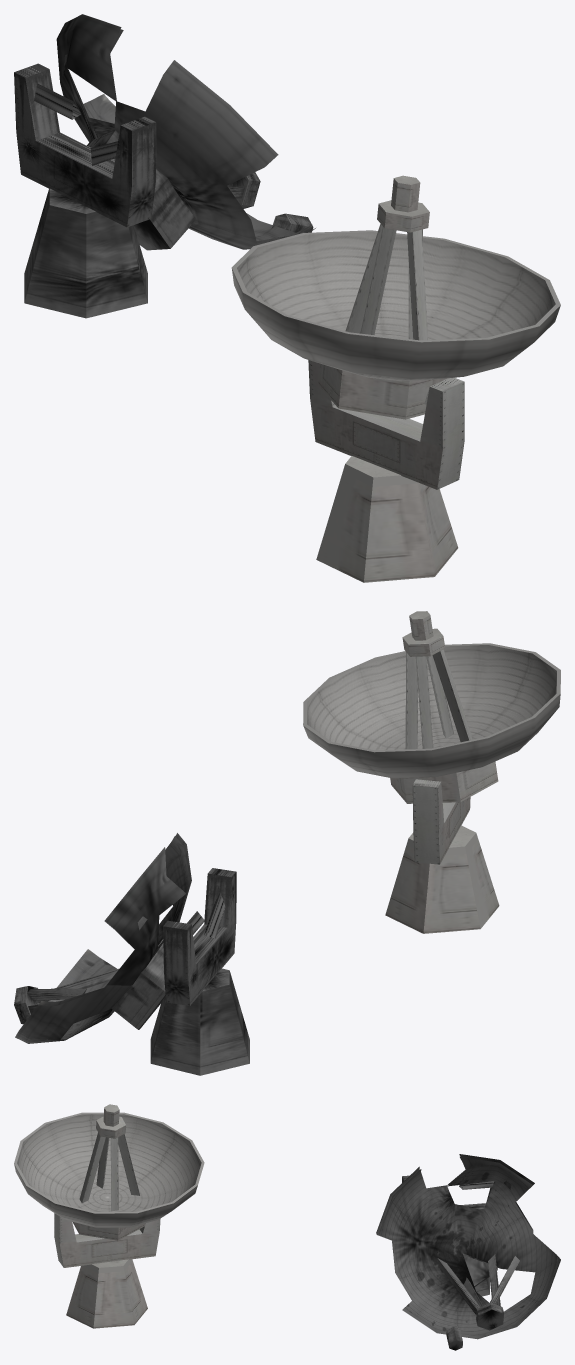
File: ComDish.fbx
The picture shows the model from 3 angles, top to bottom: view 1: azimuth 30°, elevation 25°; view 2: azimuth 150°, elevation 25°; view 3: azimuth 270°, elevation 25°; orthographic projection. The views are drawn at different scales.
Parts seen in each view (by area): view 1: DishDEAD, Dish, DishBASE, ARM; view 2: Dish, DishDEAD, DishBASE, ARM; view 3: DishDEAD, Dish, DishBASE, ARM.
Part boxes in pixels (<box>): DishDEAD: <box>14,14,315,318</box>; Dish: <box>231,175,560,419</box>; DishBASE: <box>316,456,458,582</box>; ARM: <box>308,360,464,489</box>; Dish: <box>303,611,560,803</box>; DishDEAD: <box>14,833,249,1075</box>; DishBASE: <box>385,825,499,933</box>; ARM: <box>412,779,470,864</box>; DishDEAD: <box>376,1154,560,1350</box>; Dish: <box>14,1104,204,1240</box>; DishBASE: <box>66,1259,147,1328</box>; ARM: <box>54,1213,160,1267</box>.
Size of the model in its own units: 243 by 240 by 564.
2 materials, 2 textured.
